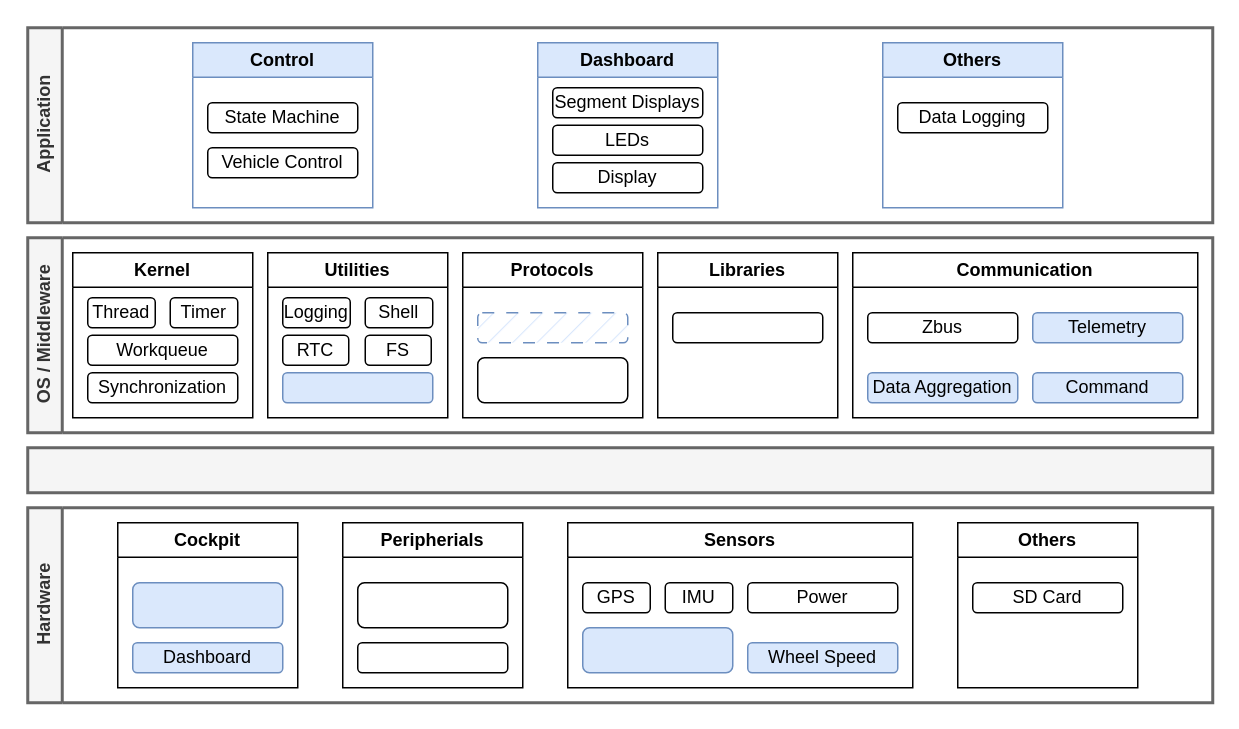
The diagram is 1239 pixels wide and 729 high, and some of its shapes have lost their labels. Here are the shapes that lost their labels. From the top down, the centre of each, then its label:
the point at 552,327: CAN Open
the point at 747,327: LVGL
the point at 357,387: Error Handling
the point at 552,379: USB ACM / MSC / DFU
the point at 620,470: Driver / Hardware Abstraction
the point at 207,604: Steer / Accel / Brake Encoders
the point at 432,604: RTD Light / Sound / Buttons
the point at 432,657: Brake Light
the point at 657,649: Suspension Travel
